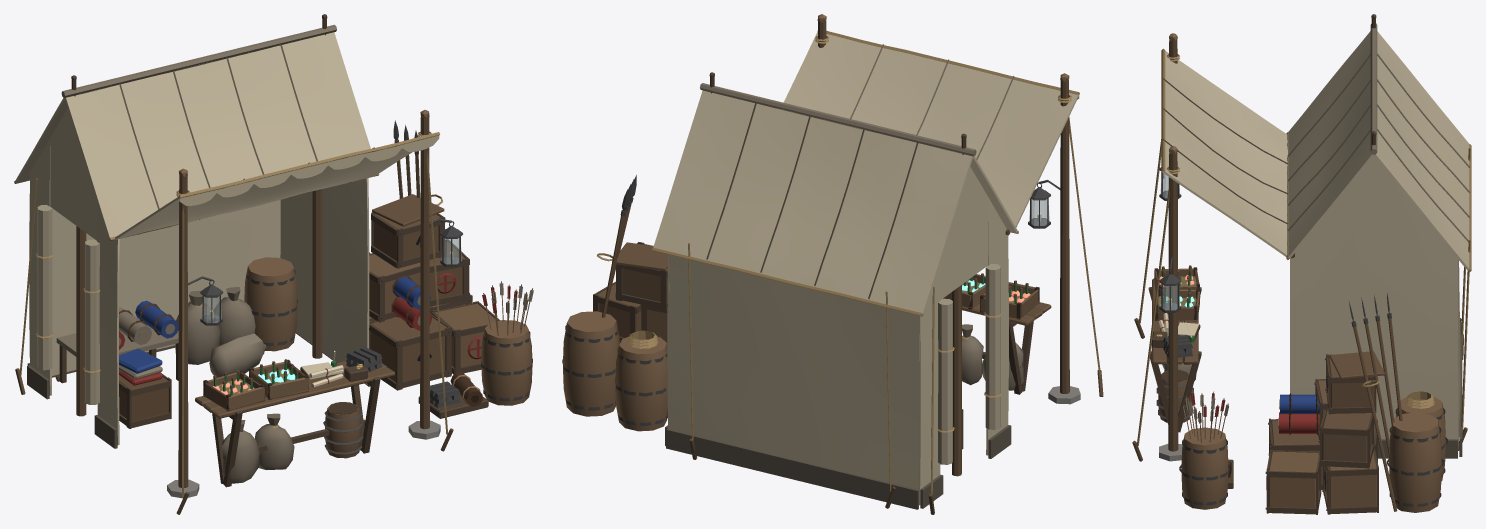
Rendered from stand_quartermaster.glb.
3 views of the same model, side by side, from view 1: azimuth 30°, elevation 25°; view 2: azimuth 150°, elevation 25°; view 3: azimuth 270°, elevation 25° (orthographic). The views are drawn at different scales.
Parts seen in each view (by area): view 1: stand_quartermaster; view 2: stand_quartermaster; view 3: stand_quartermaster.
Part boxes in pixels (x1,y1,x2,y2): stand_quartermaster: [14, 14, 533, 514]; stand_quartermaster: [562, 14, 1103, 514]; stand_quartermaster: [1132, 14, 1471, 514].
Size of what is drawn, in the model's own units: 4.4 by 3.71 by 3.43.
